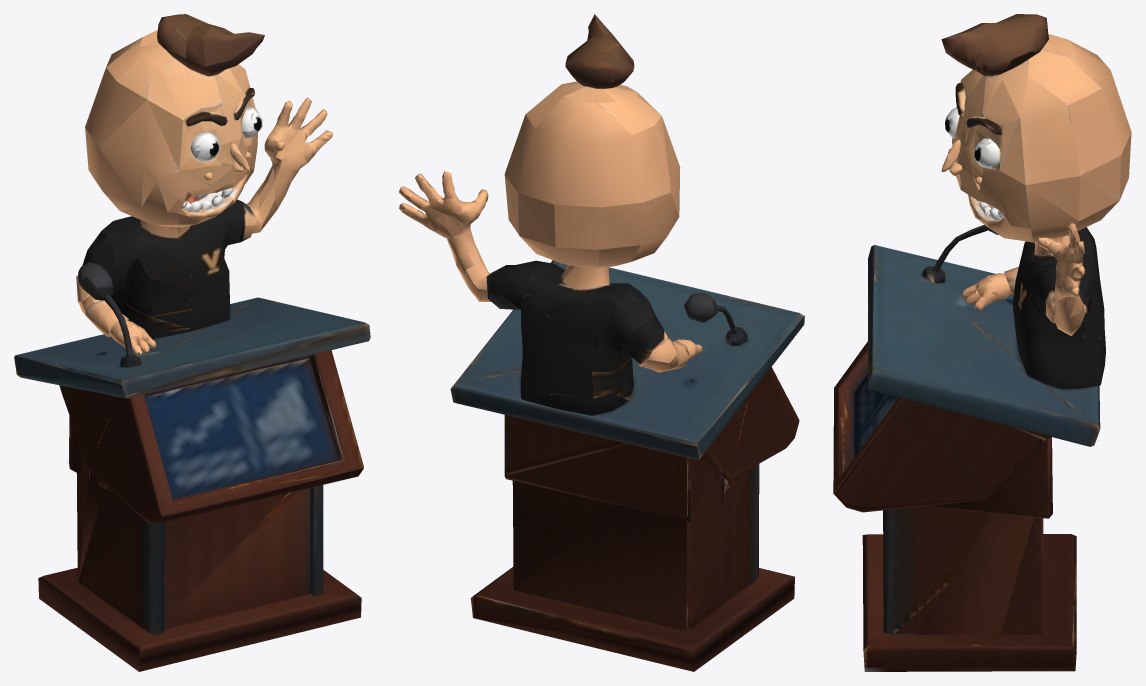
Rendered from มาสเตอร์โม้เหม็น.glb.
3 views of the same model, side by side, from view 1: azimuth 30°, elevation 25°; view 2: azimuth 150°, elevation 25°; view 3: azimuth 270°, elevation 25° (orthographic). The views are drawn at different scales.
Parts seen in each view (by area): view 1: mesh_node; view 2: mesh_node; view 3: mesh_node.
Boxes of the visible parts, left/top/right/bottom form: mesh_node: left=14, top=14, right=370, bottom=671; mesh_node: left=399, top=14, right=804, bottom=671; mesh_node: left=833, top=14, right=1131, bottom=671.
Bounding box in the file's own units: 0.5605 × 0.9941 × 0.4463.
Materials: 1 (1 with a texture image).
